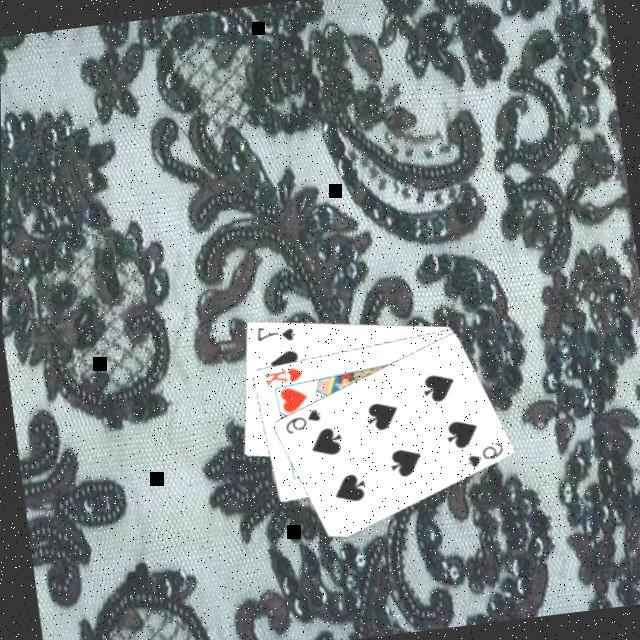6S: (459, 437, 504, 471), (277, 404, 322, 437)
7S: (249, 319, 295, 346)
KH: (258, 362, 304, 388)
